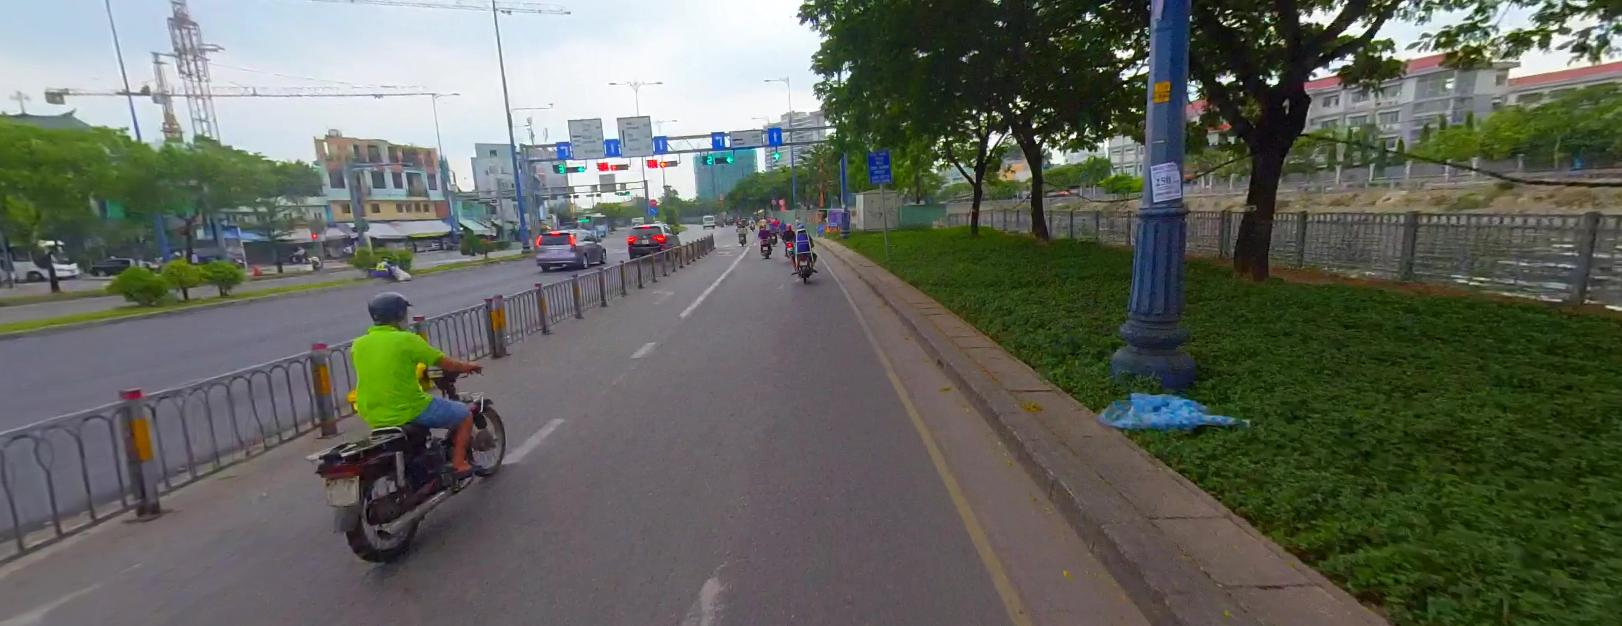Cam con lai: (778, 197, 785, 203), (770, 197, 775, 202)
Cam nguoc chieu: (648, 197, 656, 205)
Hieu lenh: (649, 205, 656, 212)
